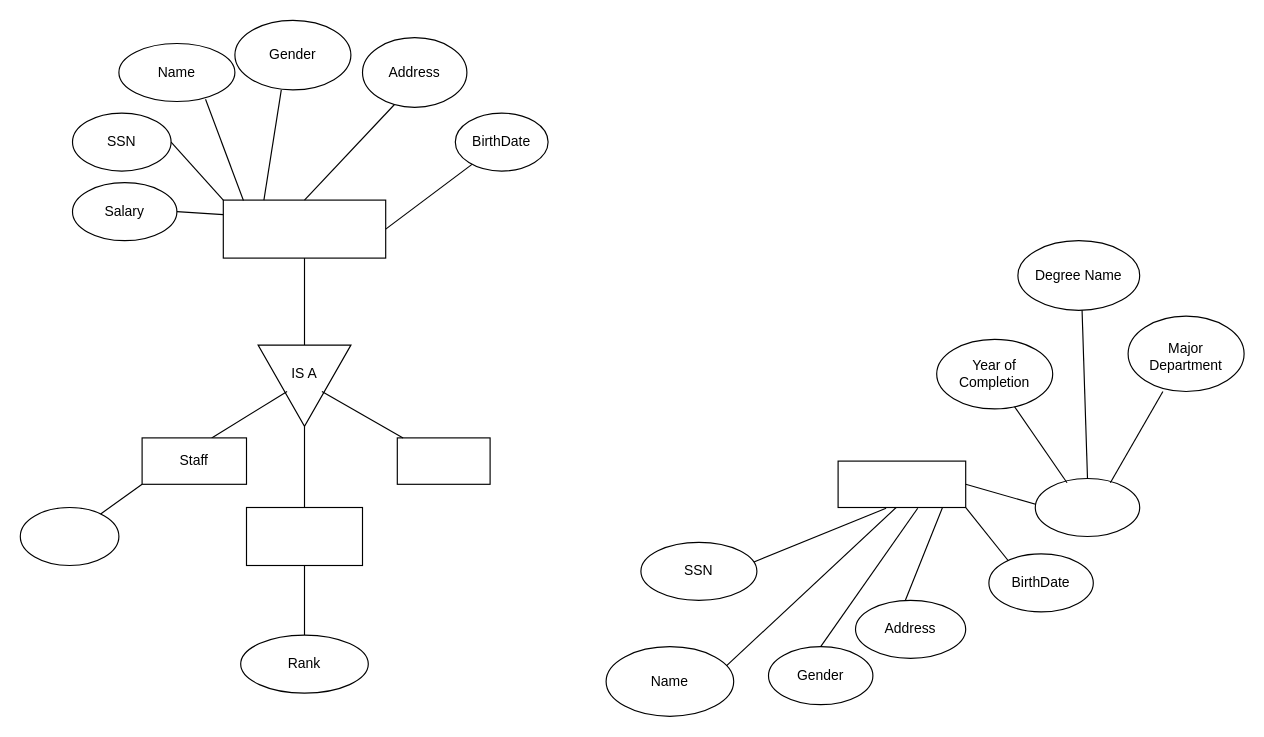
Some shapes in this 1264 by 737 pixel diagram are drawn without their labels. The shapes that lost their labels are listed below. From the top down, each one's centre as x and y in pixels, then its label:
At [304,228]: "Employee".
At [443,460]: "Student Assistant".
At [901,483]: "Alumni".
At [1087,506]: "Degree".
At [69,536]: "Position".
At [303,536]: "Faculty".
